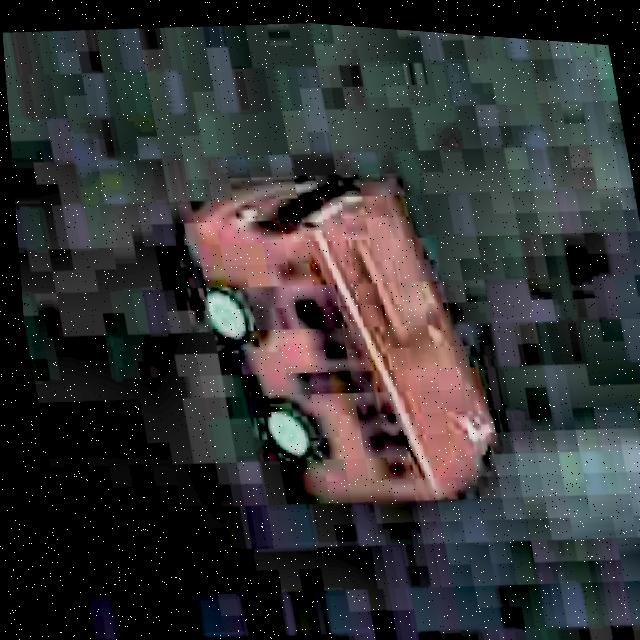bus: (156, 140, 525, 544)
